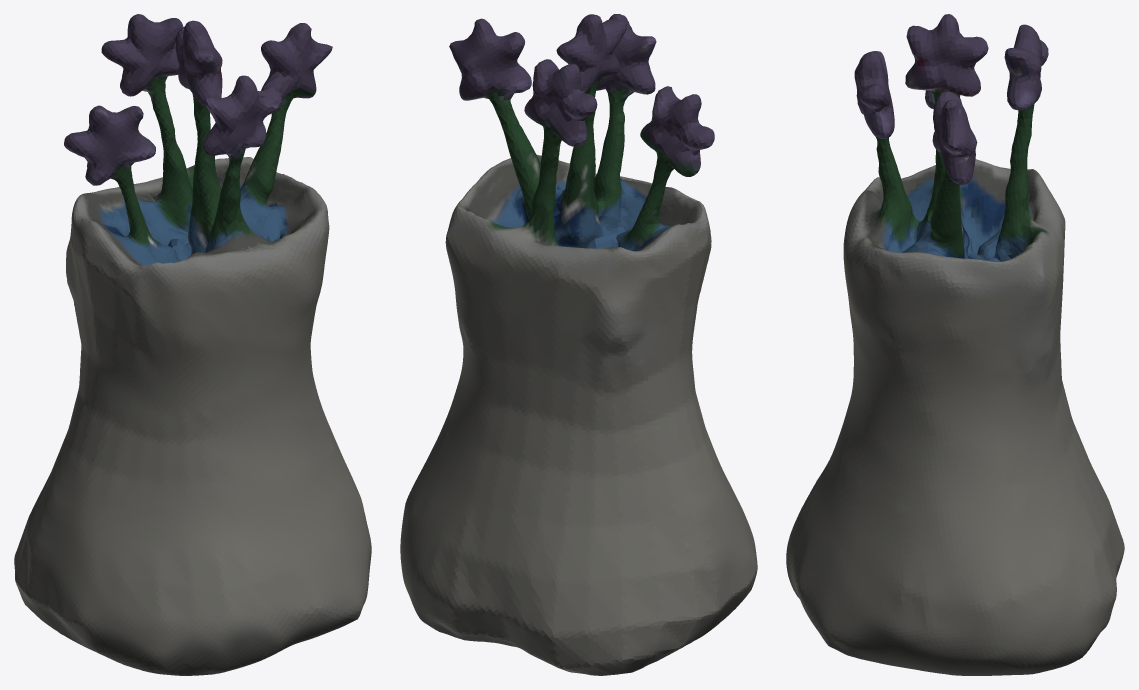
The model's file is flowervasekinda.fbx.
3 views of the same model, side by side, from view 1: azimuth 30°, elevation 25°; view 2: azimuth 150°, elevation 25°; view 3: azimuth 270°, elevation 25° (orthographic).
Parts seen in each view (by area): view 1: Cube.007; view 2: Cube.007; view 3: Cube.007.
Boxes of the visible parts, x1=… form: Cube.007: x1=14, y1=14, x2=371, y2=675; Cube.007: x1=400, y1=14, x2=757, y2=675; Cube.007: x1=786, y1=14, x2=1124, y2=675.
Size of the model in its own units: 101 by 190 by 95.24.
